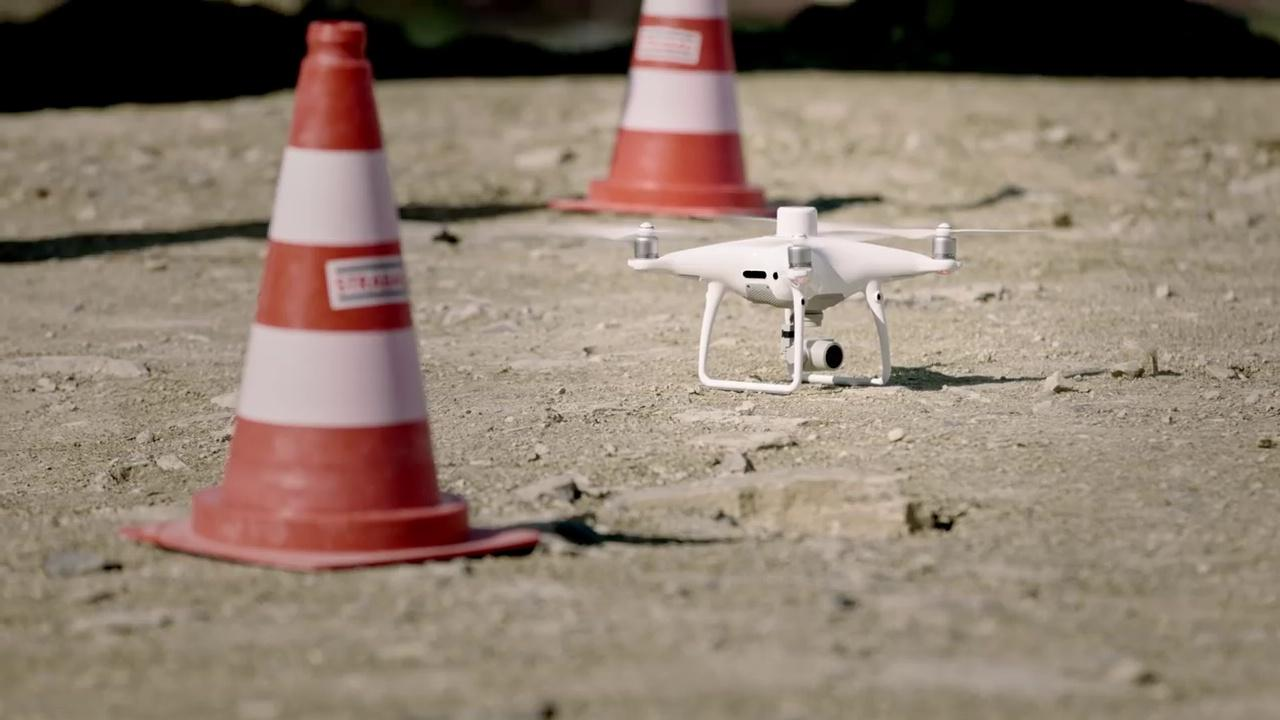drone: (556, 200, 1053, 398)
